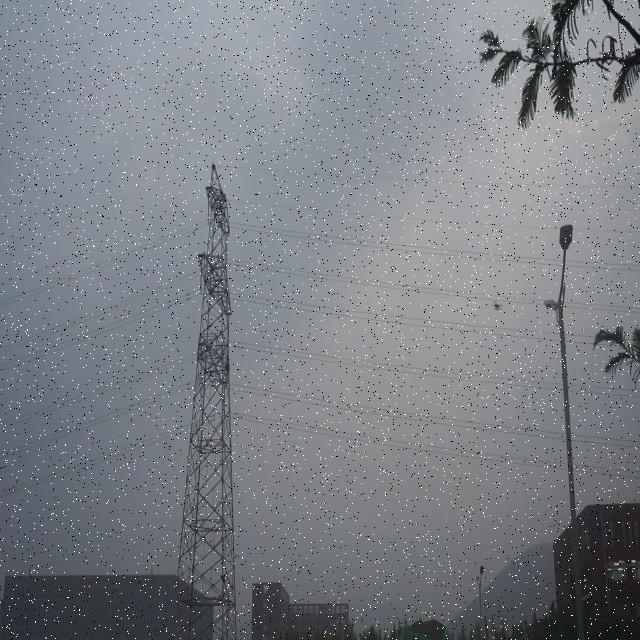UAV: (492, 299, 504, 311)
